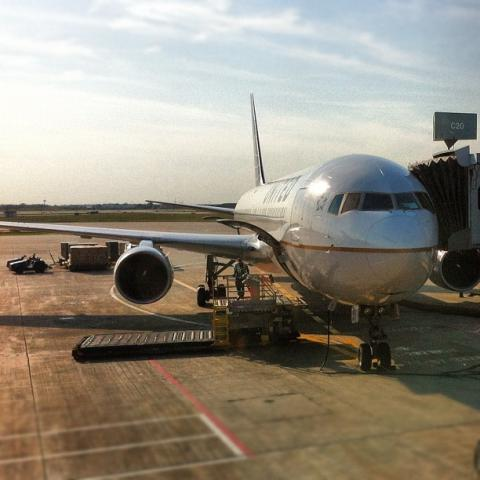car: (9, 258, 54, 275), (6, 255, 26, 268)
